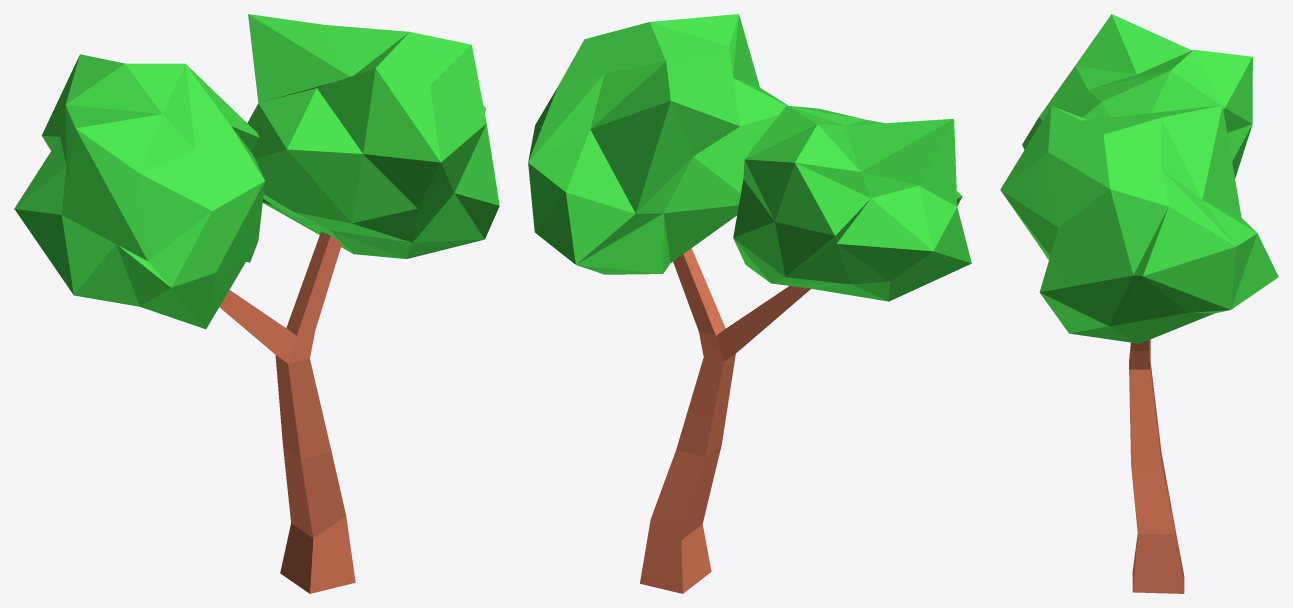
Rendered from tree.FBX.
3 renders of one model, left to right at view 1: azimuth 30°, elevation 25°; view 2: azimuth 150°, elevation 25°; view 3: azimuth 270°, elevation 25°, orthographic. The views are drawn at different scales.
Visible parts, largest first — view 1: ExportedObj;idle_1; view 2: ExportedObj;idle_1; view 3: ExportedObj;idle_1.
Boxes of the visible parts, x1,y1,x2,y2 form: ExportedObj;idle_1: (14, 14, 499, 593); ExportedObj;idle_1: (528, 14, 971, 593); ExportedObj;idle_1: (1000, 14, 1278, 593).
Size of the model in its own units: 462 by 549 by 291.
